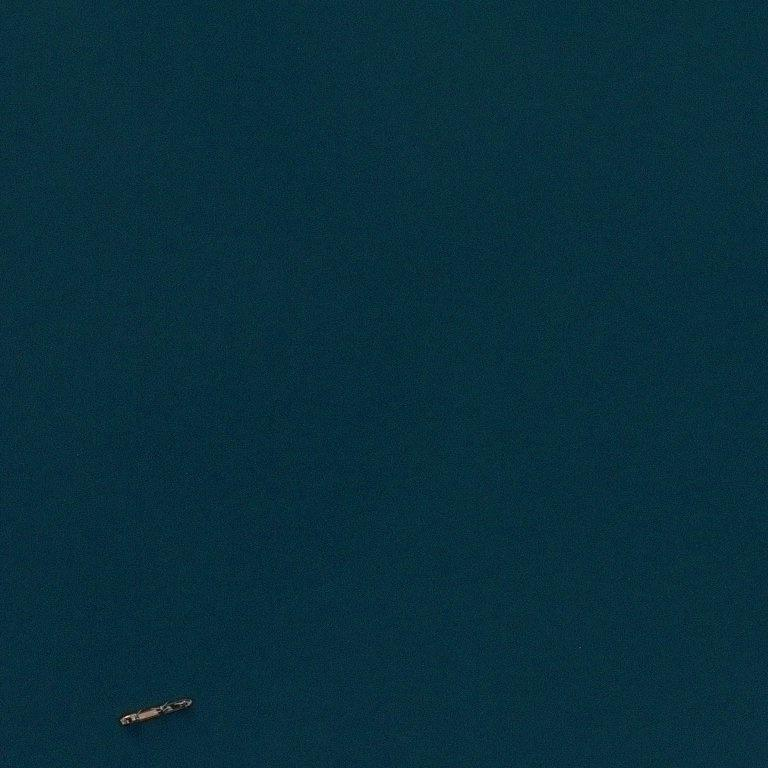ship: (118, 697, 193, 727), (119, 718, 123, 722), (190, 699, 193, 704), (123, 721, 123, 724)
